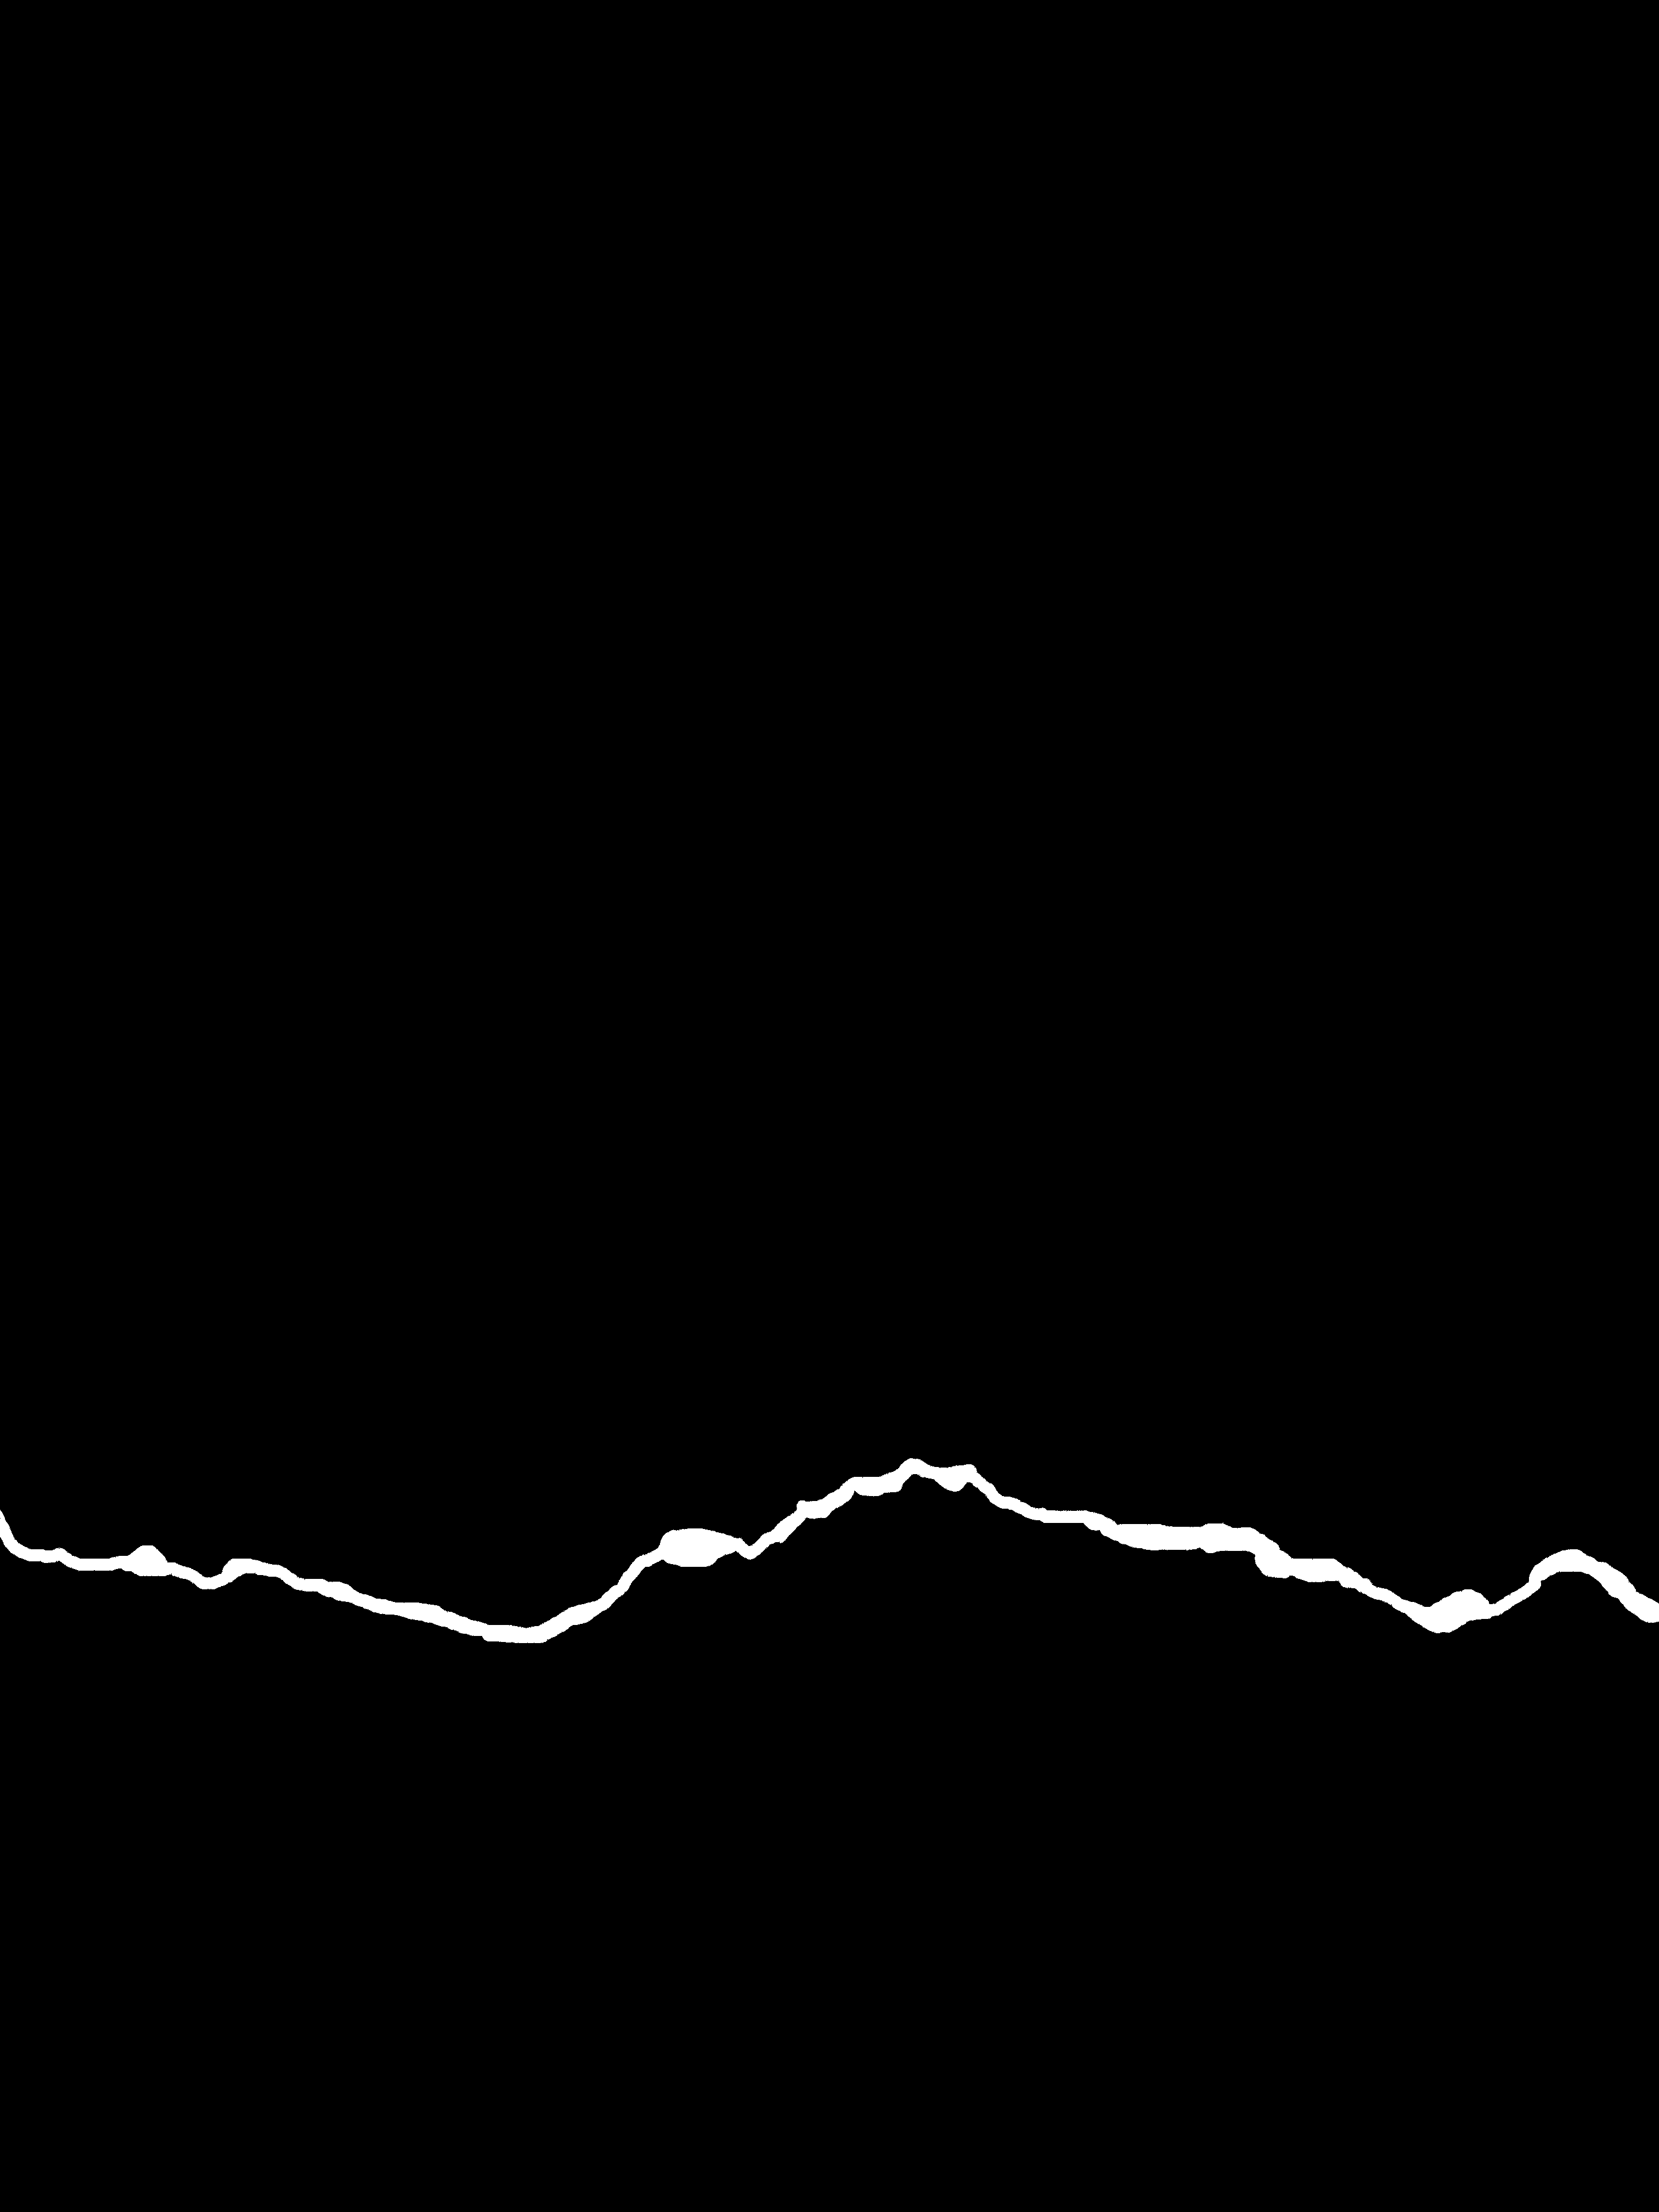Crack: (0, 1439, 1659, 1677)
